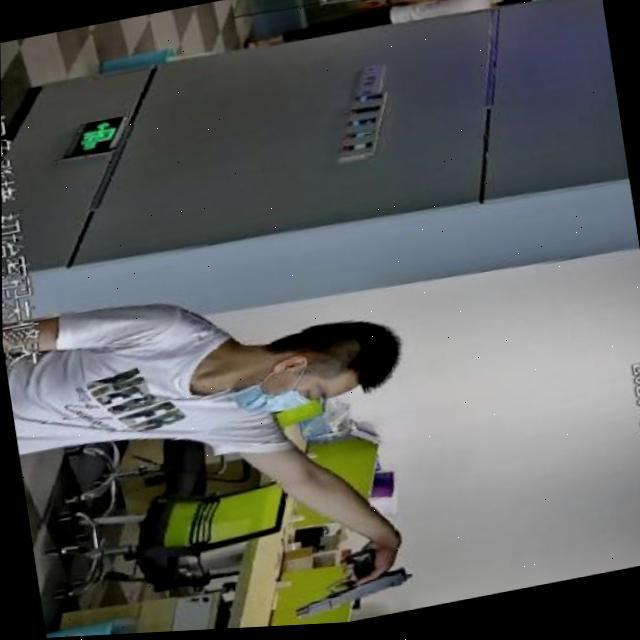gun: (256, 546, 428, 630)
